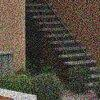stairs: (20, 4, 99, 79)
